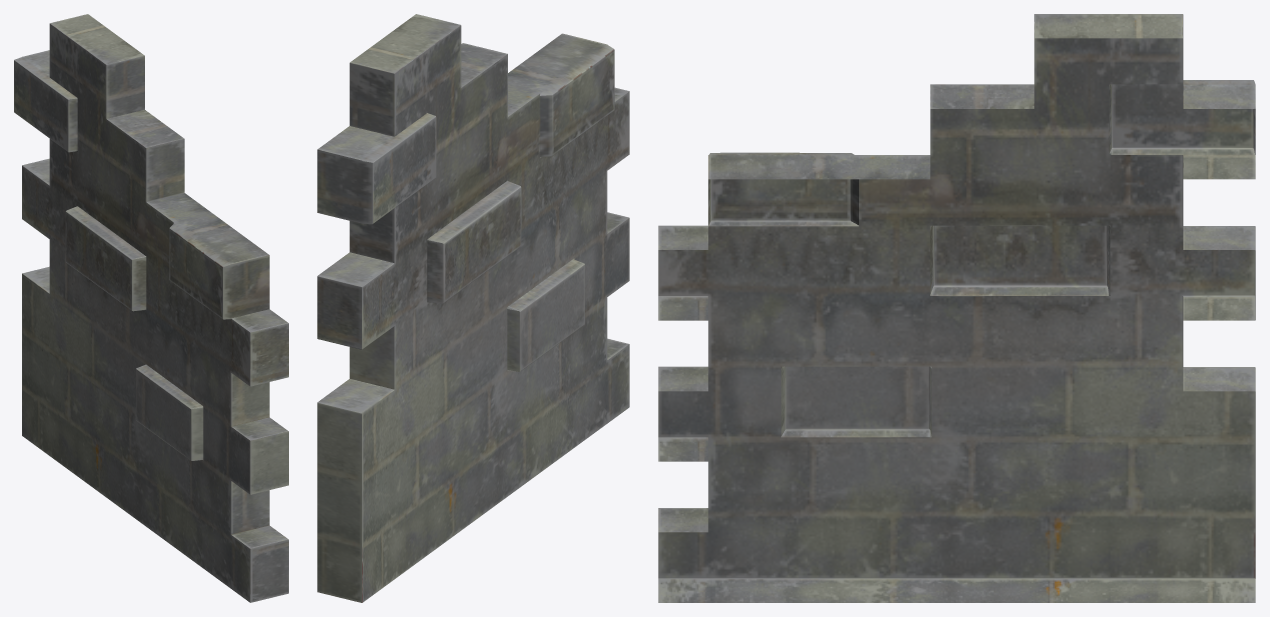
File: SM_Broken_Brick_Walls_Concrete_Brick_Wall_Big.fbx
3 views of the same model, side by side, from view 1: azimuth 30°, elevation 25°; view 2: azimuth 150°, elevation 25°; view 3: azimuth 270°, elevation 25° (orthographic). The views are drawn at different scales.
Parts seen in each view (by area): view 1: SM_Broken_Brick_Walls_Concrete_Brick_Wall_Big_LOD0; view 2: SM_Broken_Brick_Walls_Concrete_Brick_Wall_Big_LOD0; view 3: SM_Broken_Brick_Walls_Concrete_Brick_Wall_Big_LOD0.
Part boxes in pixels (bbox=[...]): SM_Broken_Brick_Walls_Concrete_Brick_Wall_Big_LOD0: bbox=[14, 14, 288, 602]; SM_Broken_Brick_Walls_Concrete_Brick_Wall_Big_LOD0: bbox=[317, 14, 629, 602]; SM_Broken_Brick_Walls_Concrete_Brick_Wall_Big_LOD0: bbox=[658, 14, 1255, 602].
Bounding box in the file's own units: 24.99 × 192 × 200.
Materials: 1 (1 with a texture image).
